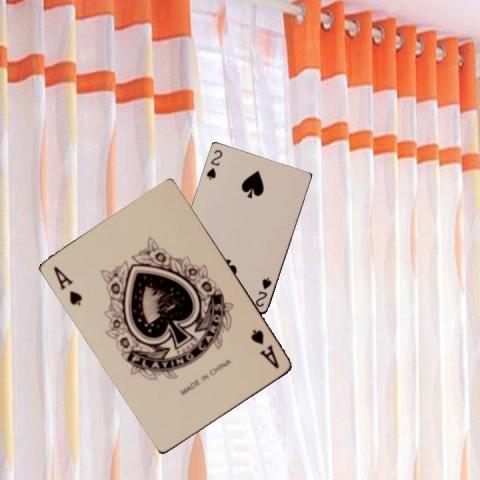2s: (203, 147, 224, 181), (252, 274, 272, 308)
As: (50, 263, 84, 307), (248, 326, 281, 371)
